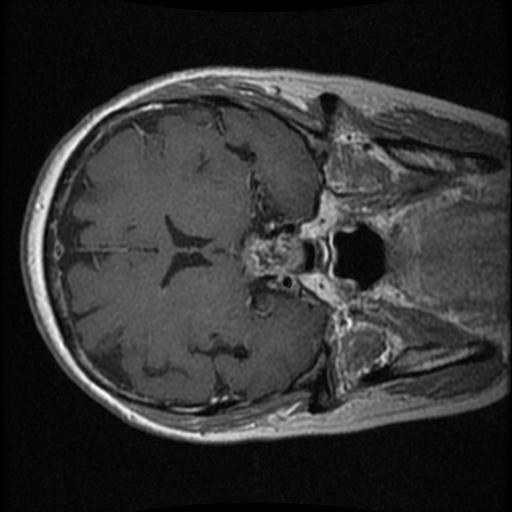pituitary tumour: (245, 232, 305, 278)
